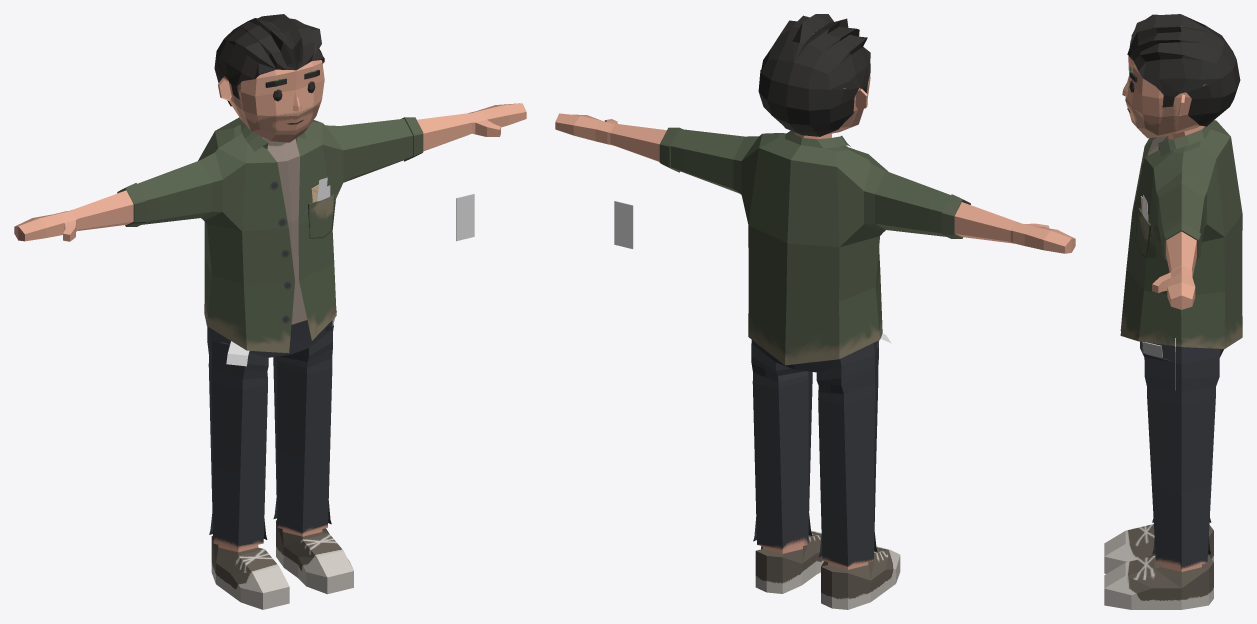
The model's file is npc_jhun_static2.fbx.
3 views of the same model, side by side, from view 1: azimuth 30°, elevation 25°; view 2: azimuth 150°, elevation 25°; view 3: azimuth 270°, elevation 25° (orthographic).
Visible parts, largest first — view 1: torso, shirt, hair, head, envelope.001; view 2: shirt, torso, hair, envelope.001; view 3: torso, shirt, hair, head.
Boxes of the visible parts, x1=… form: torso: x1=14, y1=103, x2=526, y2=609; shirt: x1=117, y1=117, x2=423, y2=353; hair: x1=214, y1=14, x2=324, y2=106; head: x1=219, y1=60, x2=324, y2=142; envelope.001: x1=456, y1=194, x2=474, y2=241; shirt: x1=659, y1=127, x2=970, y2=365; torso: x1=555, y1=113, x2=1075, y2=609; hair: x1=758, y1=14, x2=870, y2=136; envelope.001: x1=614, y1=201, x2=633, y2=248; torso: x1=1104, y1=125, x2=1224, y2=609; shirt: x1=1120, y1=120, x2=1242, y2=348; hair: x1=1127, y1=14, x2=1240, y2=126; head: x1=1122, y1=26, x2=1205, y2=138.
Size of the model in its own units: 637 by 668 by 149.
